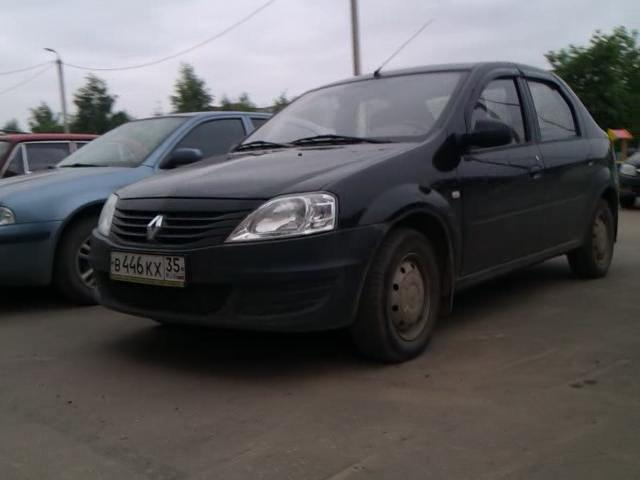car license plate: (109, 250, 186, 289)
